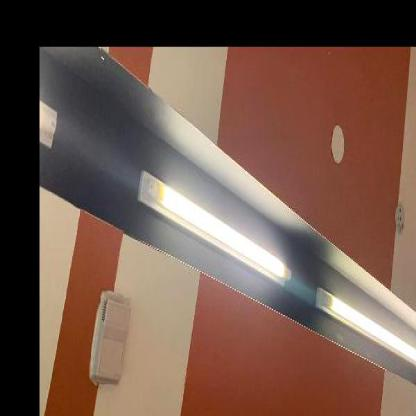light_on: (129, 154, 293, 294), (311, 270, 415, 398)
